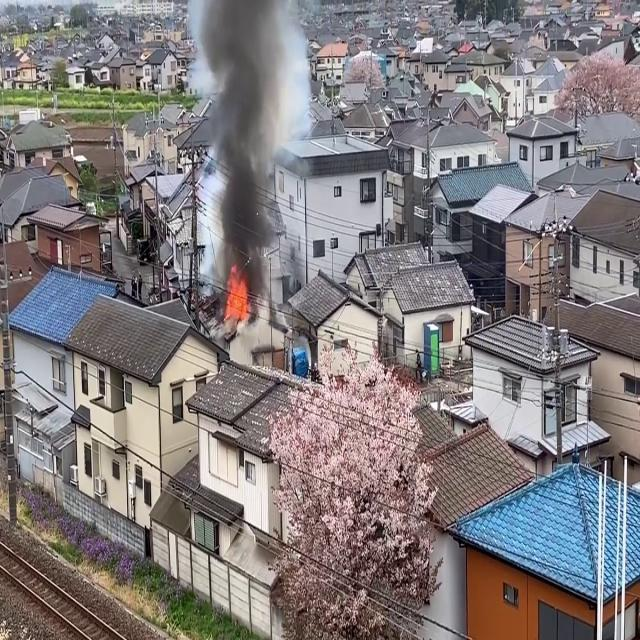Fire: (222, 266, 252, 330)
Smoke: (193, 0, 302, 292)
